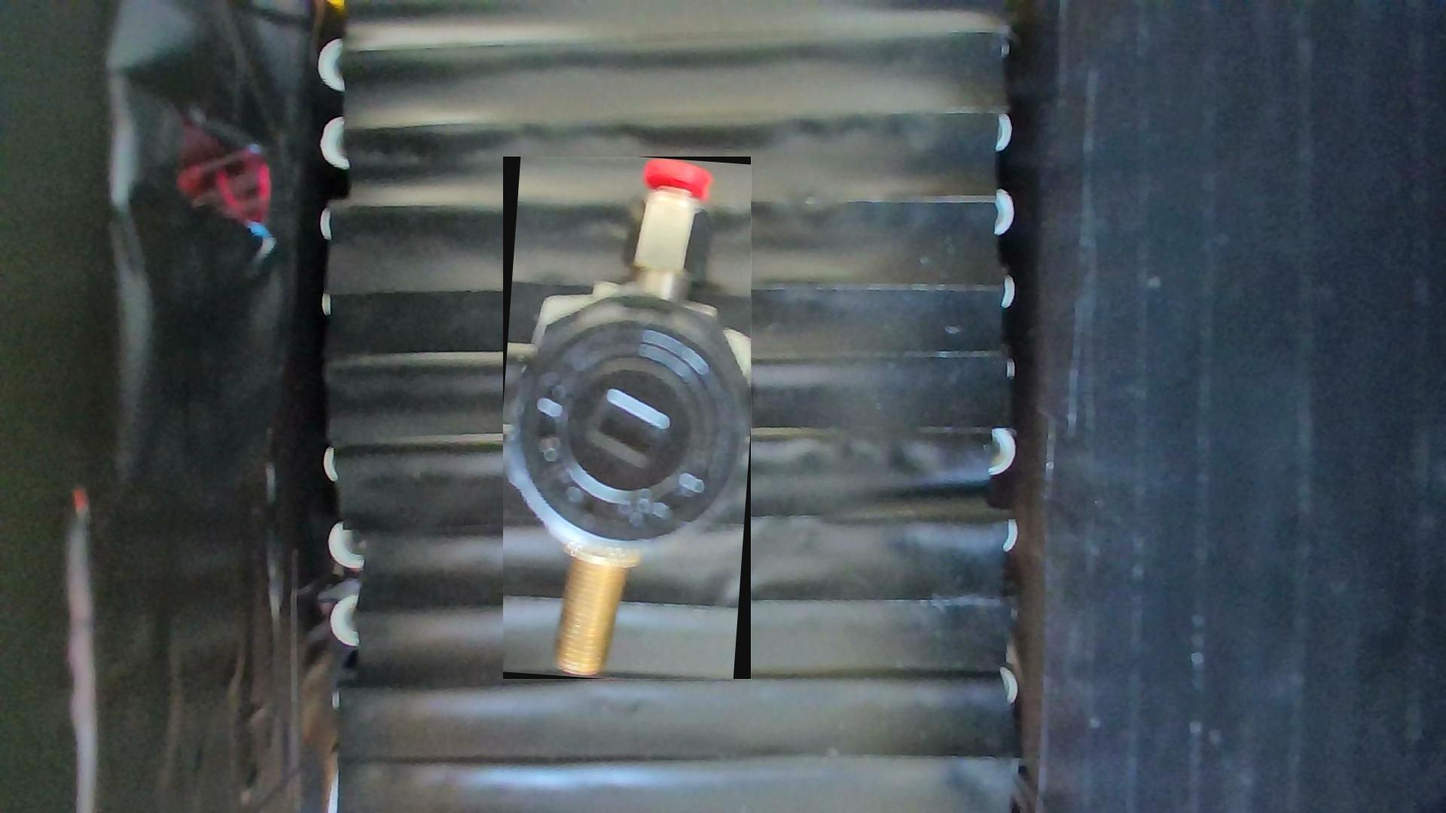regulator: (504, 157, 752, 681)
